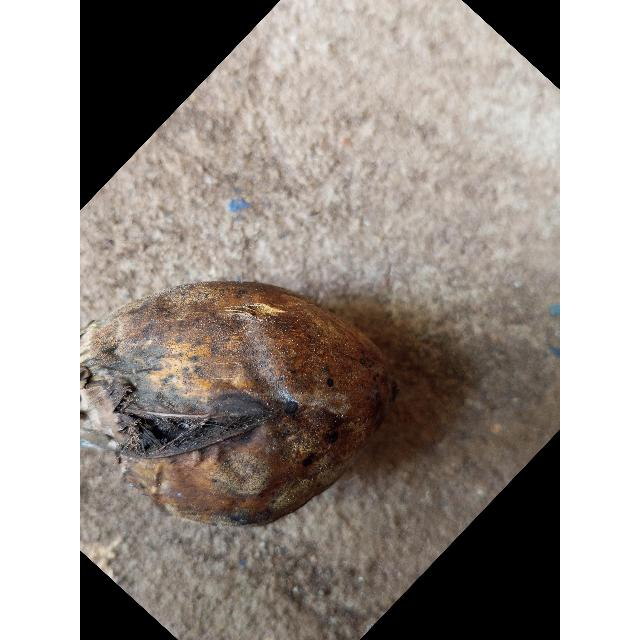damaged: (80, 282, 397, 525)
